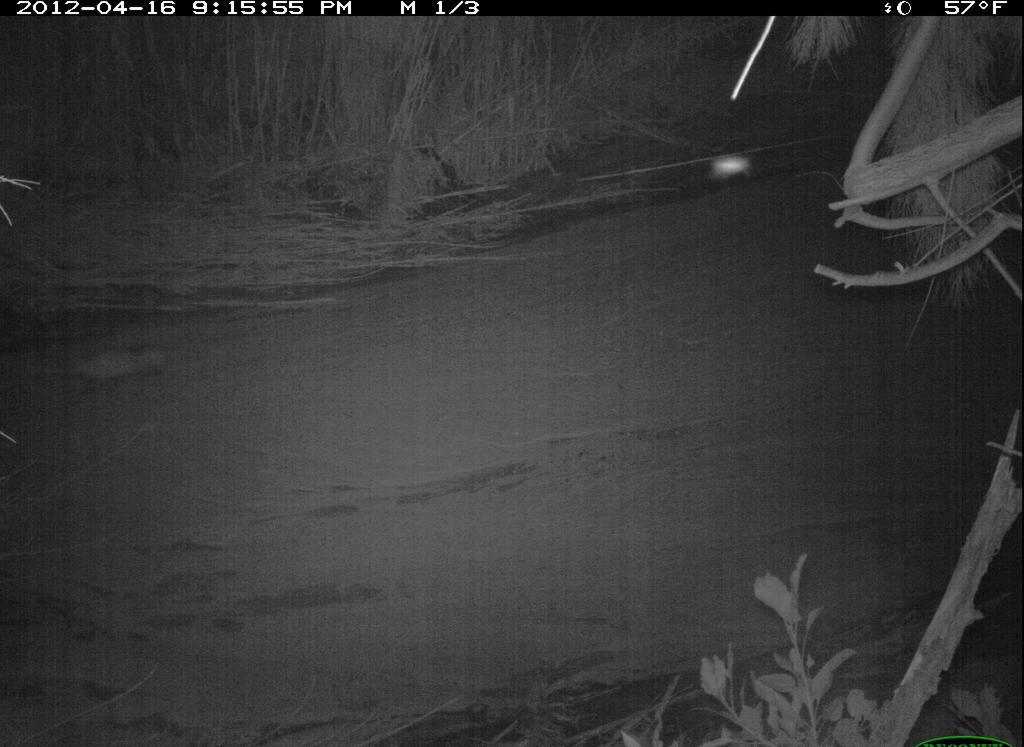opossum: (58, 337, 189, 405)
